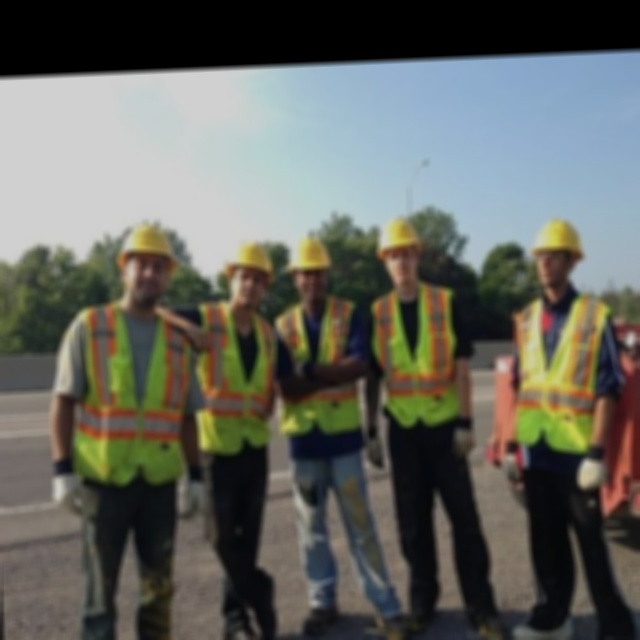Con_Casco: (118, 225, 179, 310), (532, 218, 588, 289), (224, 241, 275, 305), (377, 217, 423, 283), (290, 236, 332, 297)
Con_Chaleco: (72, 309, 199, 490), (514, 297, 616, 453), (194, 305, 284, 452), (371, 285, 467, 421), (279, 301, 363, 432)
